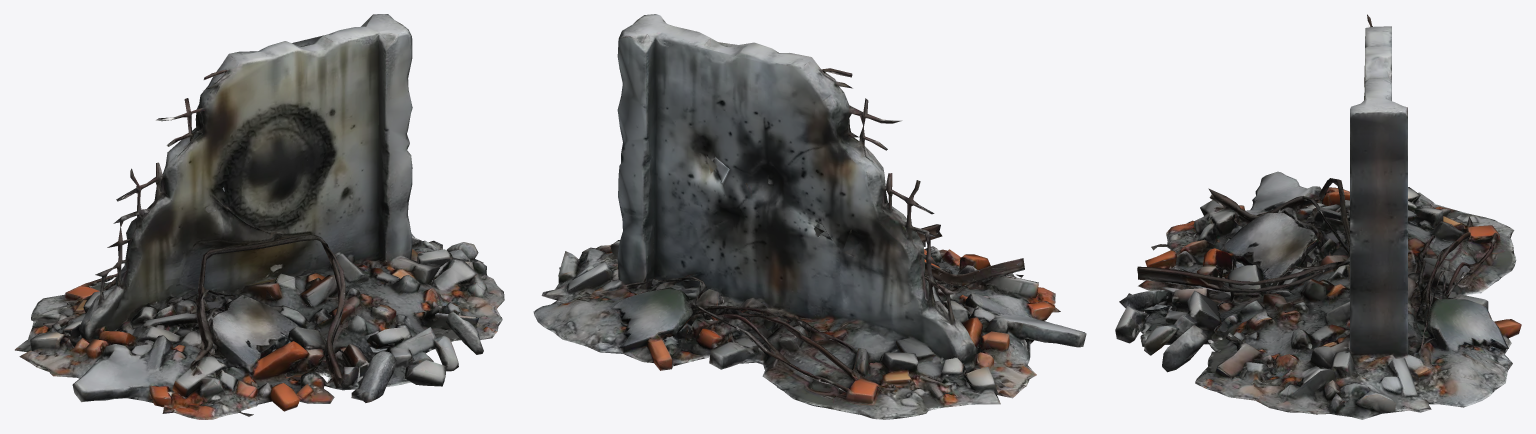
File: ruined_wall.glb
The picture shows the model from 3 angles, left to right: view 1: azimuth 30°, elevation 25°; view 2: azimuth 150°, elevation 25°; view 3: azimuth 270°, elevation 25°; orthographic projection. The views are drawn at different scales.
Parts seen in each view (by area): view 1: Mesh1.0; view 2: Mesh1.0; view 3: Mesh1.0.
Boxes of the visible parts, box(x1,y1,x2,y2) form: Mesh1.0: box(15, 14, 504, 419); Mesh1.0: box(533, 14, 1086, 419); Mesh1.0: box(1115, 14, 1521, 419).
Size of the model in its own units: 1.91 by 1.05 by 1.43.
1 material, 1 textured.
